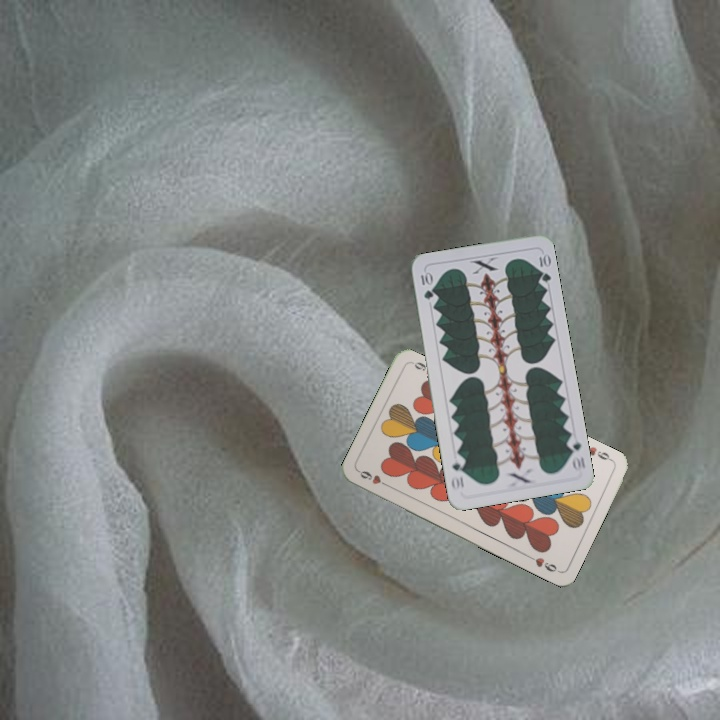G10: (563, 433, 588, 474), (417, 268, 436, 302)
H9: (355, 466, 393, 490), (584, 442, 615, 464)
